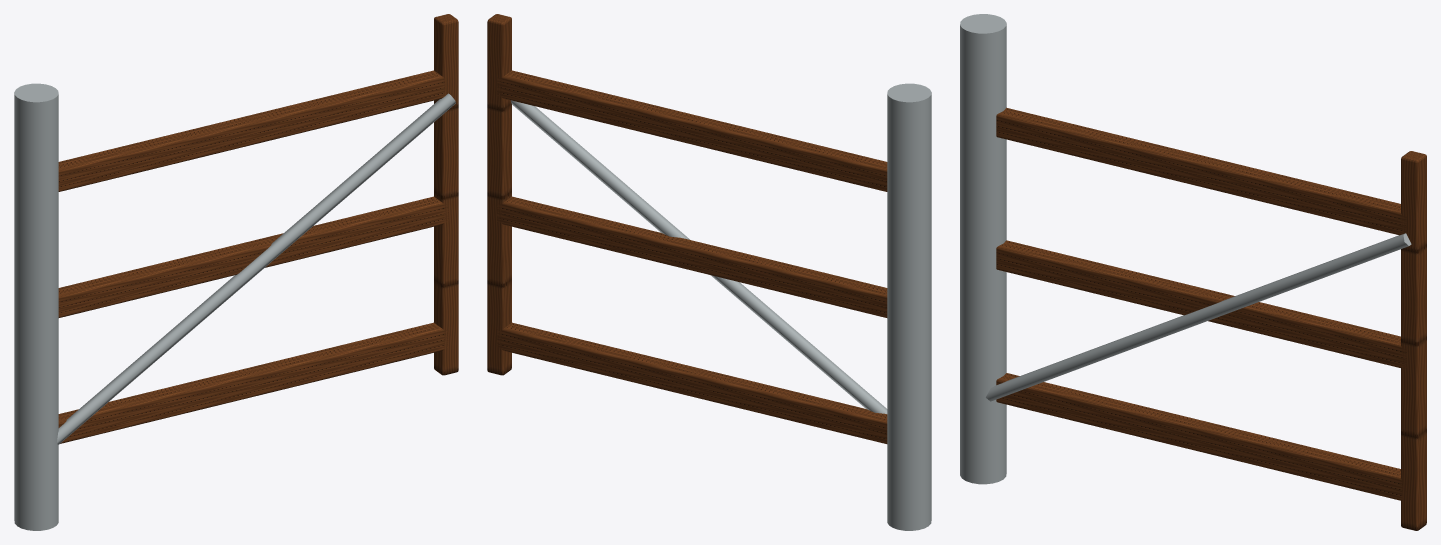
The model's file is creature-husbandry-and-transport-sorting-gate-5d36ab68__23989.glb.
3 views of the same model, side by side, from view 1: azimuth 30°, elevation 25°; view 2: azimuth 150°, elevation 25°; view 3: azimuth 330°, elevation 25° (orthographic). The views are drawn at different scales.
Visible parts, largest first — view 1: sorting-wing/wood, sorting-gate, sorting-wing/metal; view 2: sorting-wing/wood, sorting-gate, sorting-wing/metal; view 3: sorting-wing/wood, sorting-gate, sorting-wing/metal.
Boxes of the visible parts, x1,y1,x2,y2 form: sorting-wing/wood: [58, 14, 458, 443]; sorting-gate: [14, 83, 58, 530]; sorting-wing/metal: [57, 93, 455, 444]; sorting-wing/wood: [487, 14, 887, 443]; sorting-gate: [887, 83, 931, 530]; sorting-wing/metal: [510, 100, 887, 413]; sorting-wing/wood: [996, 107, 1426, 530]; sorting-gate: [960, 14, 1006, 484]; sorting-wing/metal: [986, 233, 1411, 401].
Size of the model in its own units: 1.82 by 1.7 by 0.16.
Materials: 2 (1 with a texture image).
